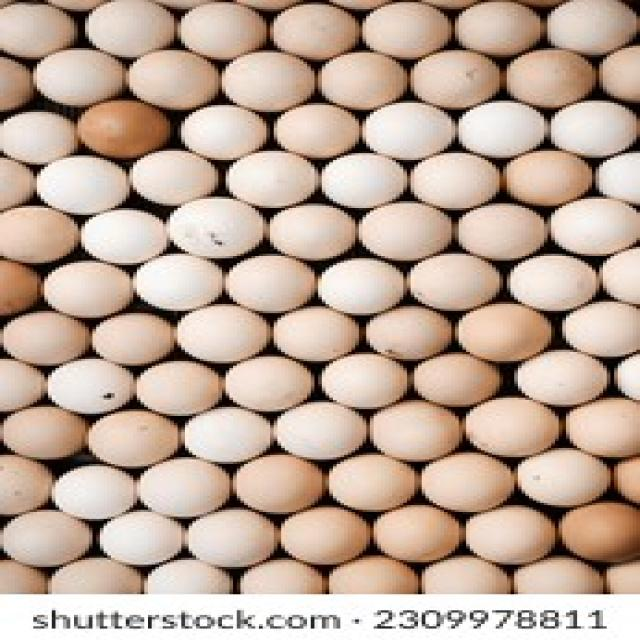Brown Egg: (74, 95, 178, 158), (365, 406, 462, 471), (265, 310, 381, 362), (465, 402, 569, 458), (364, 308, 474, 359), (276, 506, 371, 564), (459, 298, 546, 361), (555, 496, 640, 560), (407, 356, 509, 406), (372, 507, 461, 563), (239, 457, 329, 510), (502, 150, 585, 205), (332, 450, 420, 500), (0, 258, 33, 310)
Dirt Stained Egg: (41, 363, 150, 414)
White Egg: (174, 407, 288, 464), (165, 193, 264, 257), (82, 196, 174, 261), (74, 4, 188, 56), (167, 0, 275, 53), (269, 0, 360, 59), (228, 146, 316, 207), (36, 157, 130, 214), (54, 458, 133, 524), (128, 148, 217, 203), (365, 7, 451, 63), (317, 150, 404, 204), (136, 260, 242, 304), (104, 514, 184, 572), (546, 102, 632, 154), (415, 152, 497, 205), (358, 108, 454, 153), (461, 102, 541, 156), (1, 0, 74, 57), (600, 155, 640, 198)
